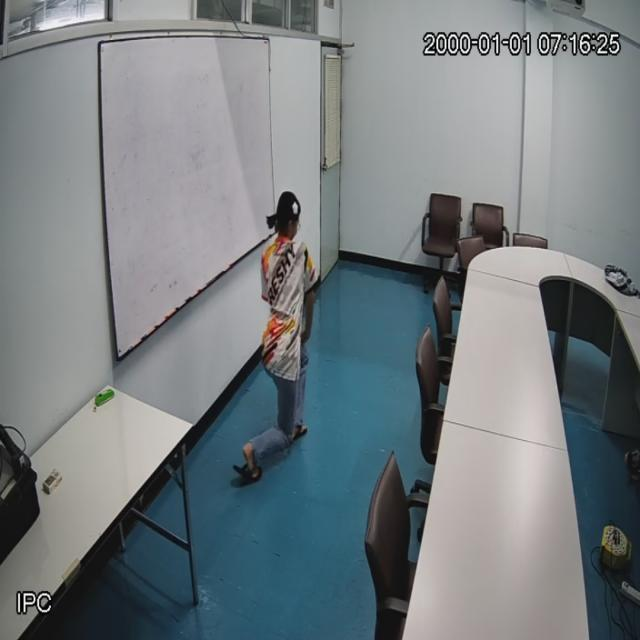normal: (255, 187, 319, 457)
